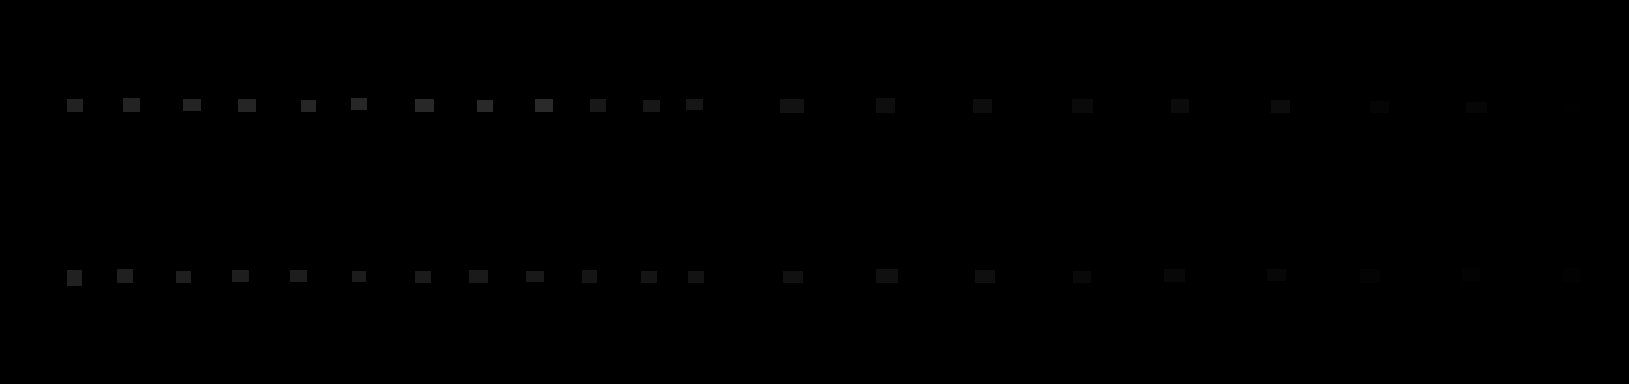light: (780, 99, 804, 113), (876, 269, 898, 283), (1072, 99, 1093, 113), (1164, 269, 1185, 282), (876, 98, 894, 113), (1360, 269, 1380, 283), (974, 270, 995, 283), (1563, 268, 1581, 282), (1462, 268, 1480, 282), (973, 99, 992, 113), (1271, 100, 1290, 113), (469, 270, 488, 283), (415, 99, 434, 112), (66, 270, 82, 286), (1171, 99, 1189, 113), (123, 98, 140, 112), (783, 271, 803, 283), (238, 99, 256, 112), (535, 99, 553, 112), (1466, 102, 1487, 113), (1370, 101, 1389, 113), (1267, 269, 1286, 281), (117, 269, 133, 283), (66, 99, 83, 112), (1073, 271, 1091, 283), (290, 270, 308, 282), (232, 270, 249, 282), (183, 99, 201, 111), (1564, 102, 1582, 113), (526, 271, 544, 282), (582, 270, 597, 283), (590, 99, 606, 112), (688, 271, 704, 283), (643, 100, 660, 112), (415, 271, 431, 283), (477, 100, 493, 112), (686, 99, 703, 110), (641, 271, 657, 283), (176, 271, 191, 283), (351, 98, 367, 110), (301, 100, 316, 112), (352, 271, 366, 282)
